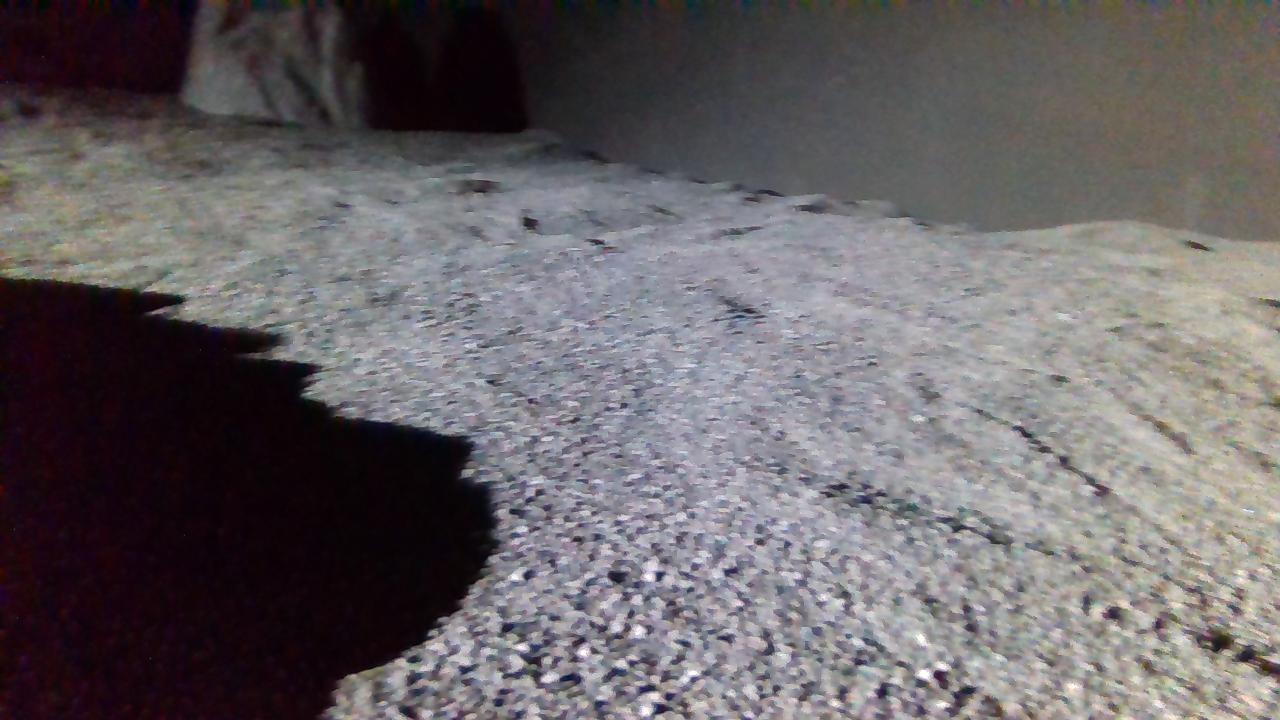rock: (179, 0, 366, 127)
